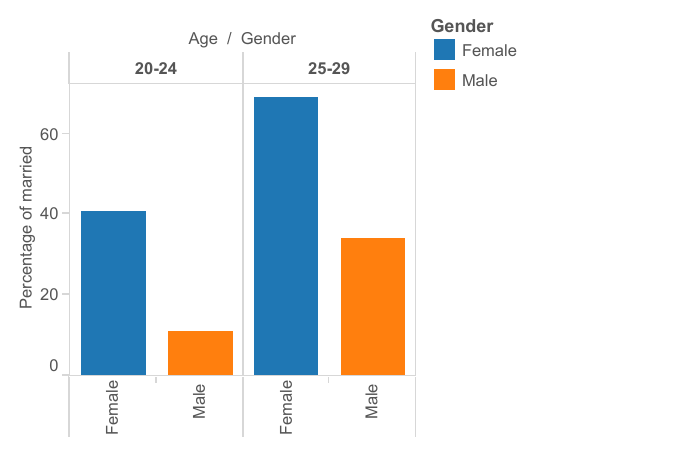

The dashboard page shown, as its layout file describes it:
{"tool":"tableau","page":{"name":"Dashboard 1","canvas":[450,300],"ordinal":0},"visuals":[{"type":"worksheet","title":"Sheet 1","mark":"Automatic","rows":["Percentage of married "],"cols":["Age","Gender"],"box":[0,0,290,300]},{"type":"legend","title":"Sheet 1","param":"[excel.41871.698363425923].[none:Gender:nk]","box":[290,0,160,67]}]}

Visuals, with their boxes in screenshot pixels (x1, y1, x2, y2), scaled from the page's 450x300 canvas onto the 674x449 screenshot:
"Sheet 1" worksheet: 0,0,434,448
"Sheet 1" legend: 434,0,673,100
